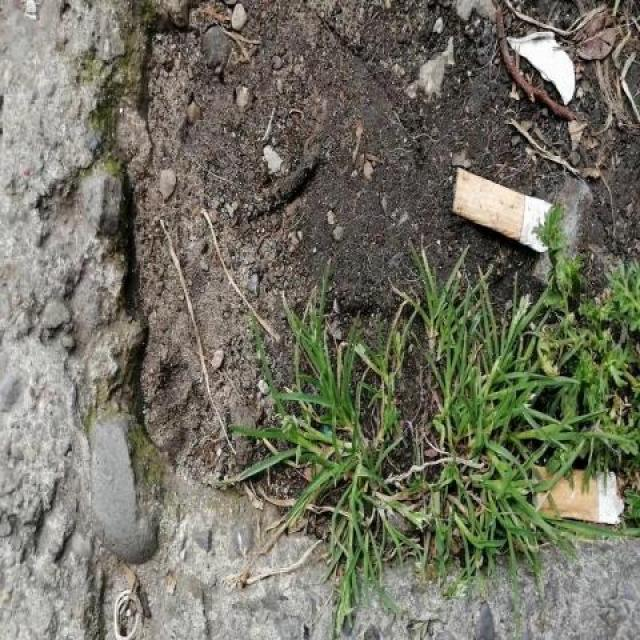non-organic waste: (446, 162, 559, 258), (522, 458, 630, 534)
